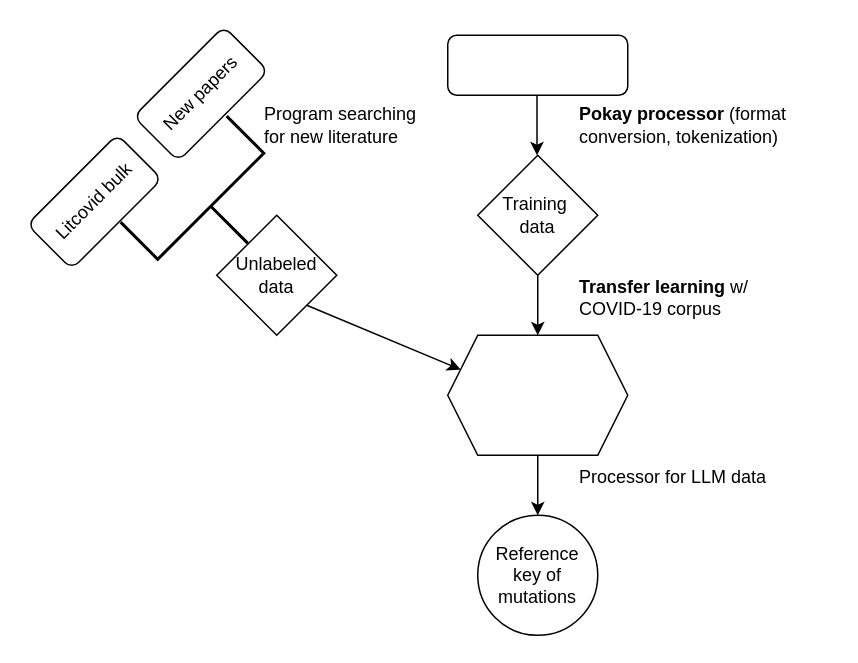
This 858x663 diagram has some shape labels left out. The shapes that lost their labels are listed below. From the top down, each one's centre as x and y in pixels, then its label:
pixel 537 64: Pokay Github Literature
pixel 537 394: LLMs (e.g. Bio-BERT)
